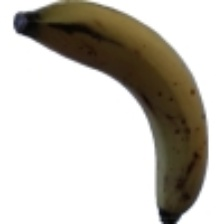banana: (24, 8, 195, 200)
